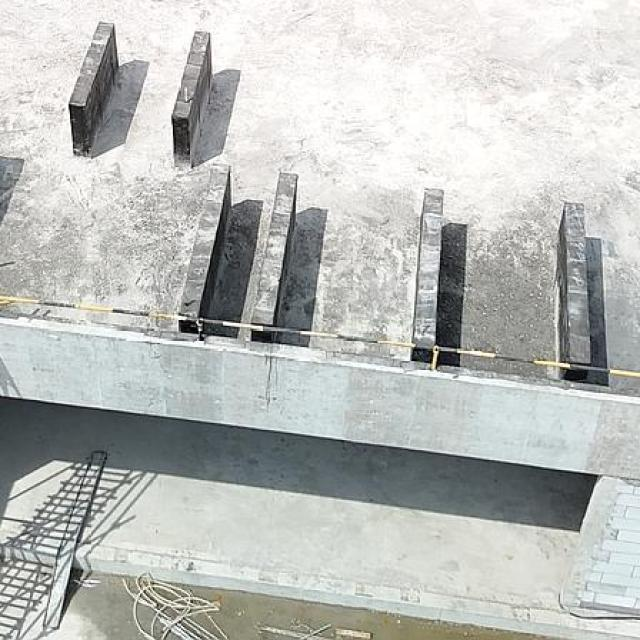edge_guardrail: (0, 293, 640, 380)
